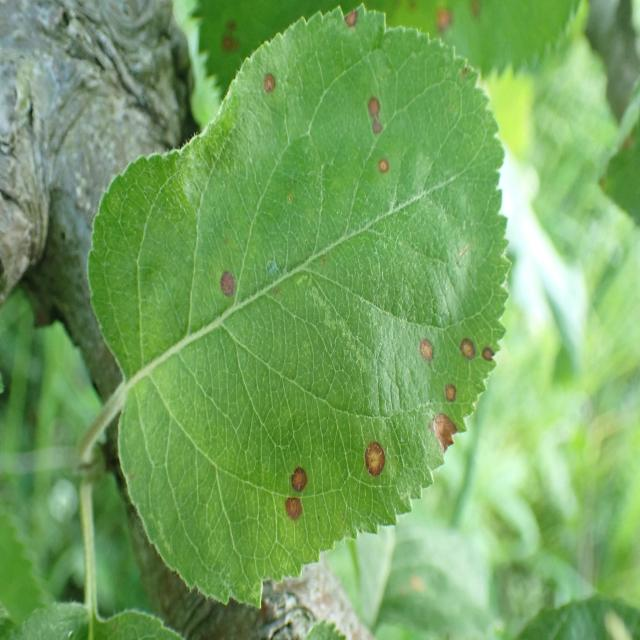Black Rot: (430, 375, 465, 470), (354, 424, 401, 493), (456, 327, 498, 400), (275, 456, 315, 526), (351, 91, 396, 139), (424, 0, 465, 43), (413, 318, 436, 380), (215, 259, 240, 315), (341, 0, 369, 48), (374, 152, 406, 183), (262, 65, 282, 114)
